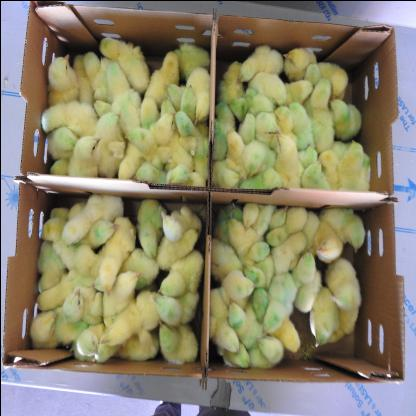Chickrotationtrack_idkeyframe: (312, 288, 358, 344), (258, 272, 294, 334), (324, 208, 364, 250), (210, 281, 236, 345), (327, 257, 359, 305), (293, 248, 317, 312), (227, 300, 261, 342), (267, 208, 307, 242), (316, 221, 344, 264), (226, 214, 261, 248), (272, 234, 302, 270), (248, 334, 281, 366), (211, 238, 240, 274), (221, 268, 253, 300), (280, 316, 304, 349), (243, 288, 268, 316), (218, 349, 260, 364), (244, 260, 271, 282), (242, 240, 266, 262), (302, 216, 318, 245), (241, 201, 257, 226), (270, 207, 286, 227)
boxrotationtrack_idkeyframe: (6, 4, 410, 386)
